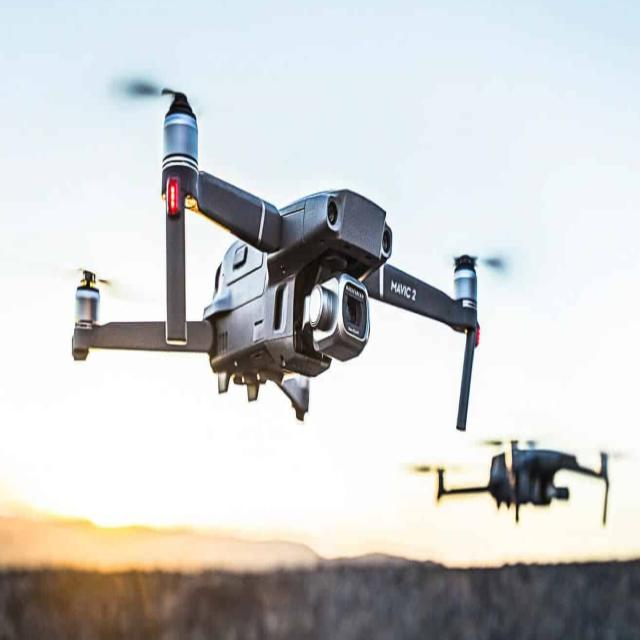drone: (42, 54, 507, 435)
